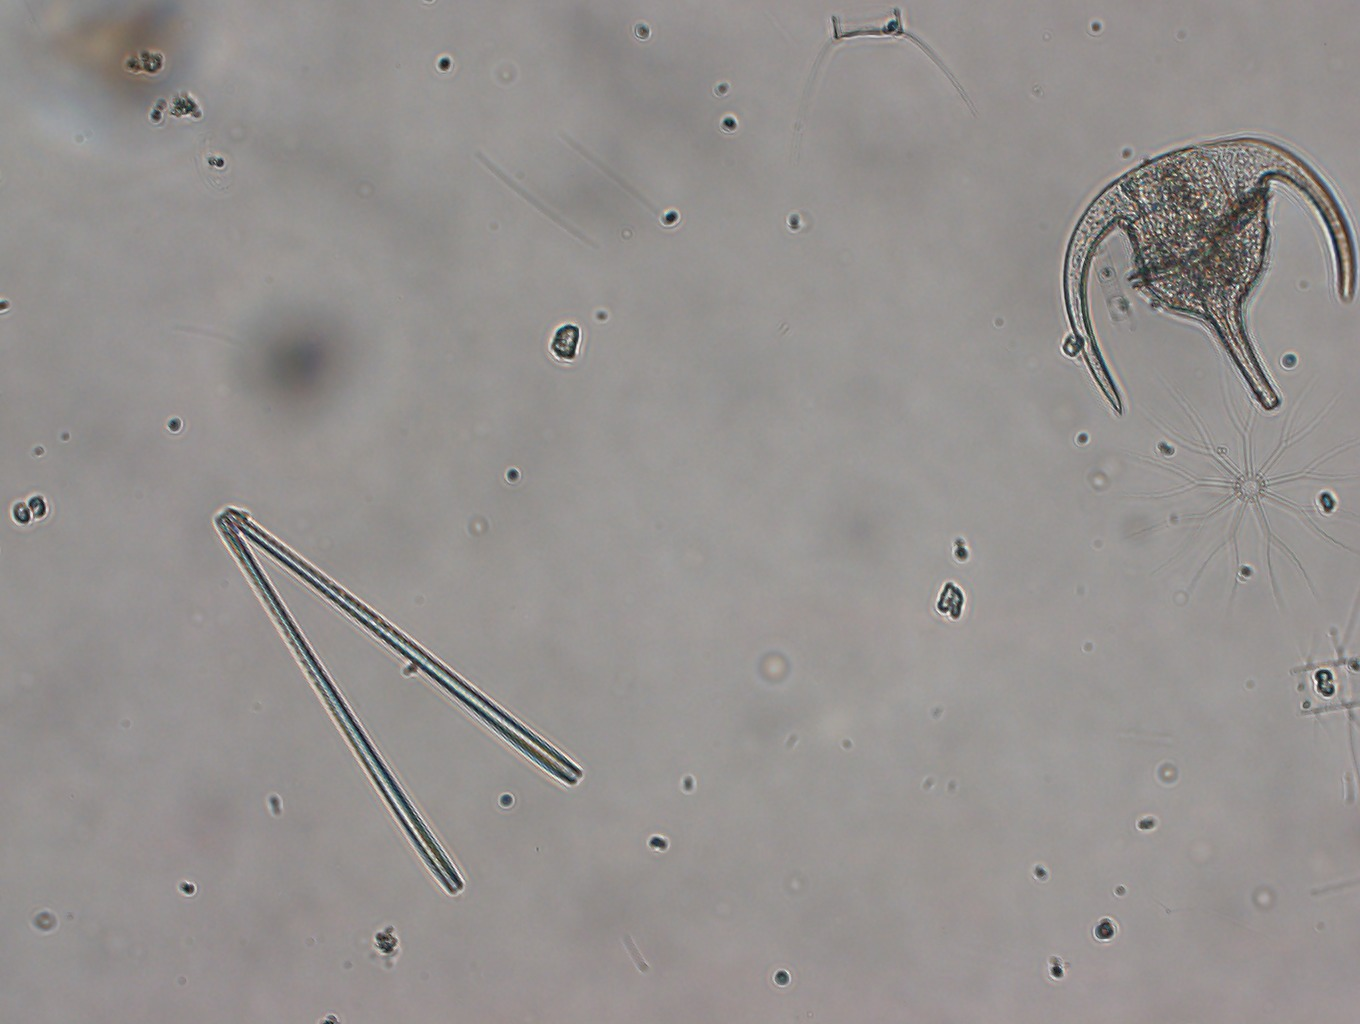bacteriastrum: (1112, 353, 1358, 616), (775, 1, 983, 142)
ceratium tripos: (1048, 125, 1360, 421)
thalassionema frauenfeldii: (202, 497, 586, 902)
